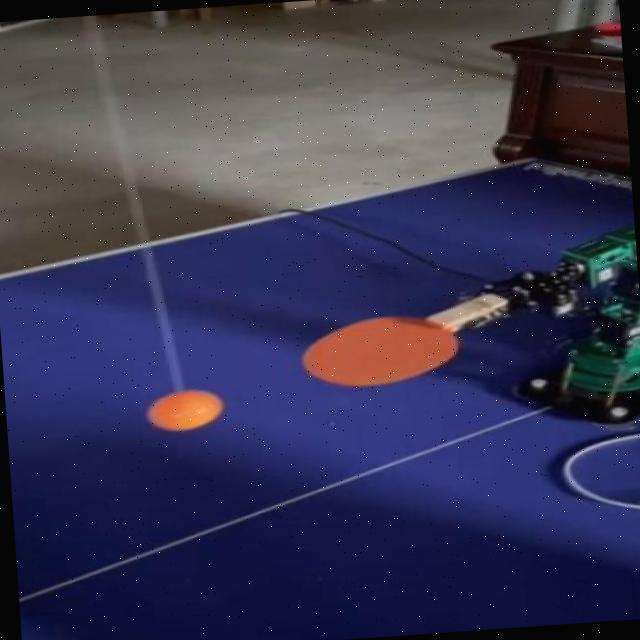ping-pong-ball: (148, 389, 224, 432)
